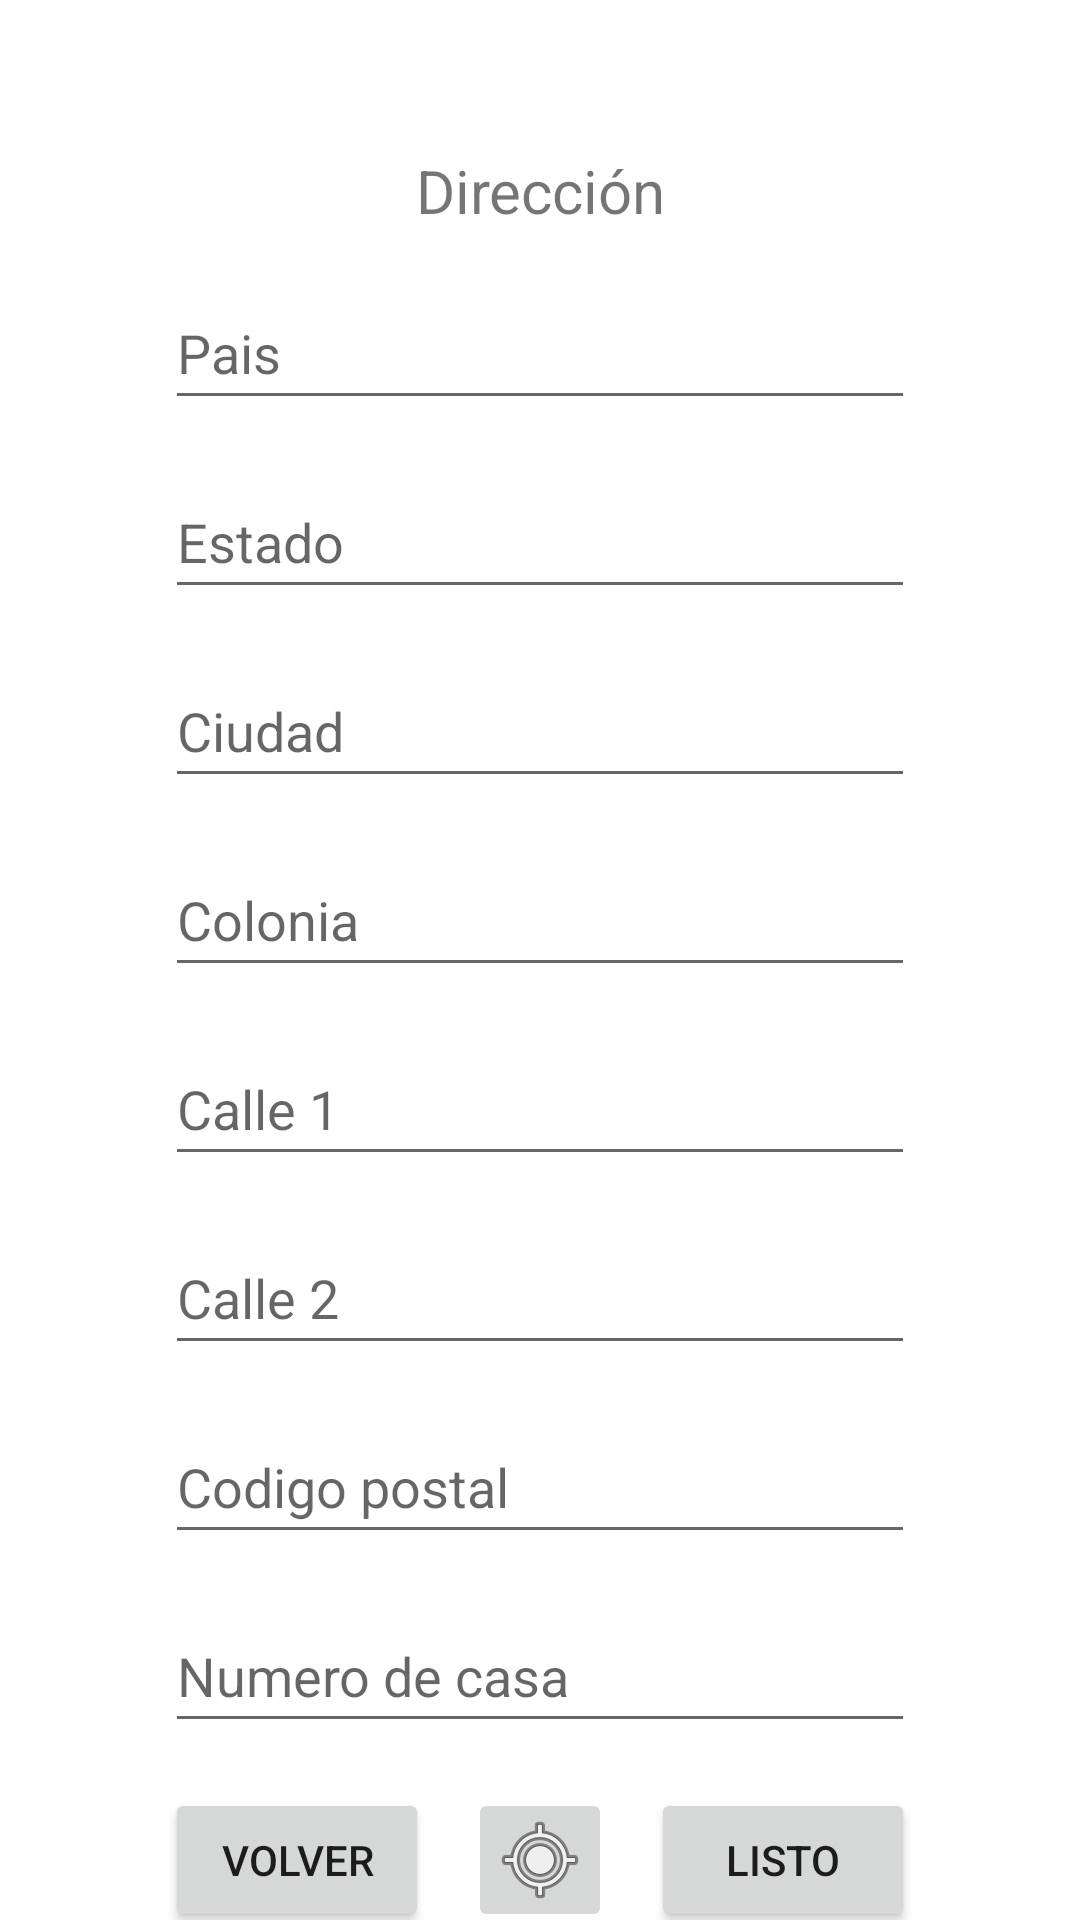

Screen size 1080*1920. Icon name, then its center in pixels as (x,y):
mylocation: (540,1860)
